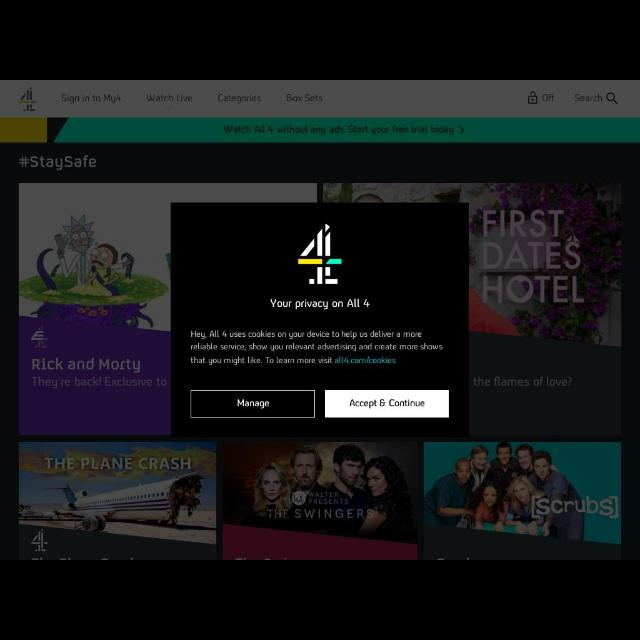icon: (606, 92, 618, 104), (528, 92, 538, 105), (458, 123, 467, 135), (167, 106, 173, 112)
iframe: (172, 202, 468, 436)
image: (322, 180, 622, 436), (18, 182, 316, 436), (423, 441, 622, 559), (18, 442, 216, 560), (222, 442, 418, 560), (297, 222, 343, 286), (19, 86, 37, 112)
text: (190, 328, 444, 366), (224, 125, 454, 135), (19, 154, 96, 170), (270, 298, 370, 310), (350, 399, 424, 409), (62, 94, 122, 104), (218, 94, 262, 104), (146, 94, 192, 102), (237, 398, 269, 408), (287, 95, 323, 102), (576, 94, 602, 102), (542, 94, 556, 102)
textbutton: (326, 390, 448, 418), (192, 390, 314, 418)
toolbar: (1, 80, 640, 118)
